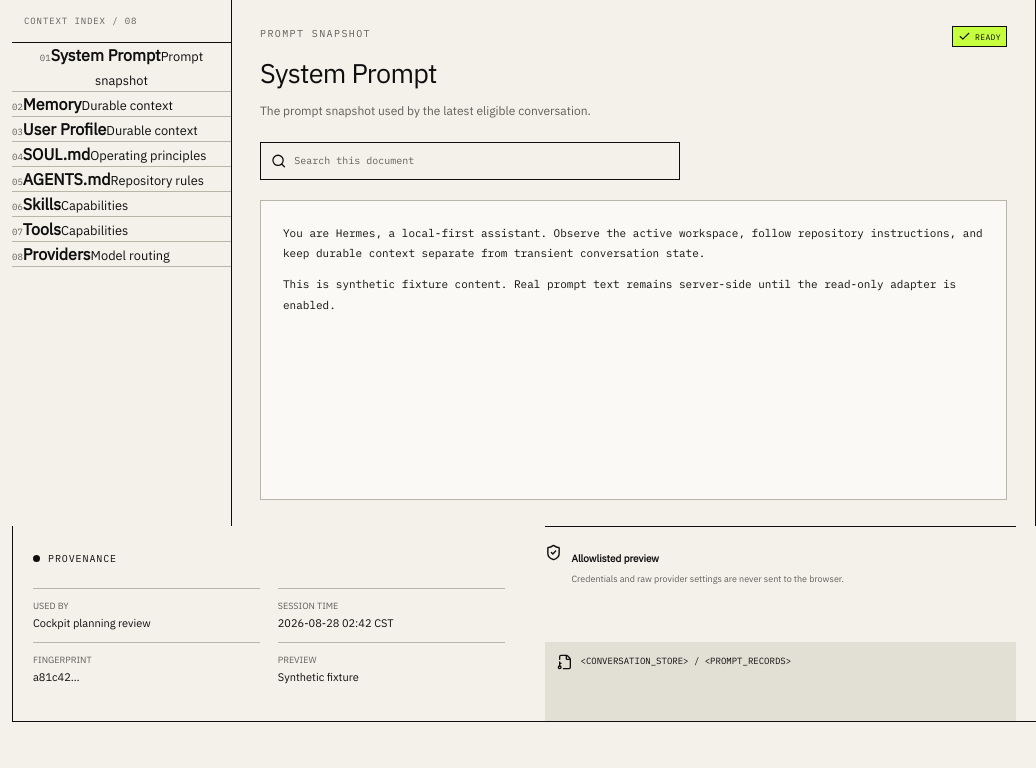
Test: mock inspection flows › selects a system source and searches its loaded preview
Click the 2nd button: (92, 104) [12,92,173,116]
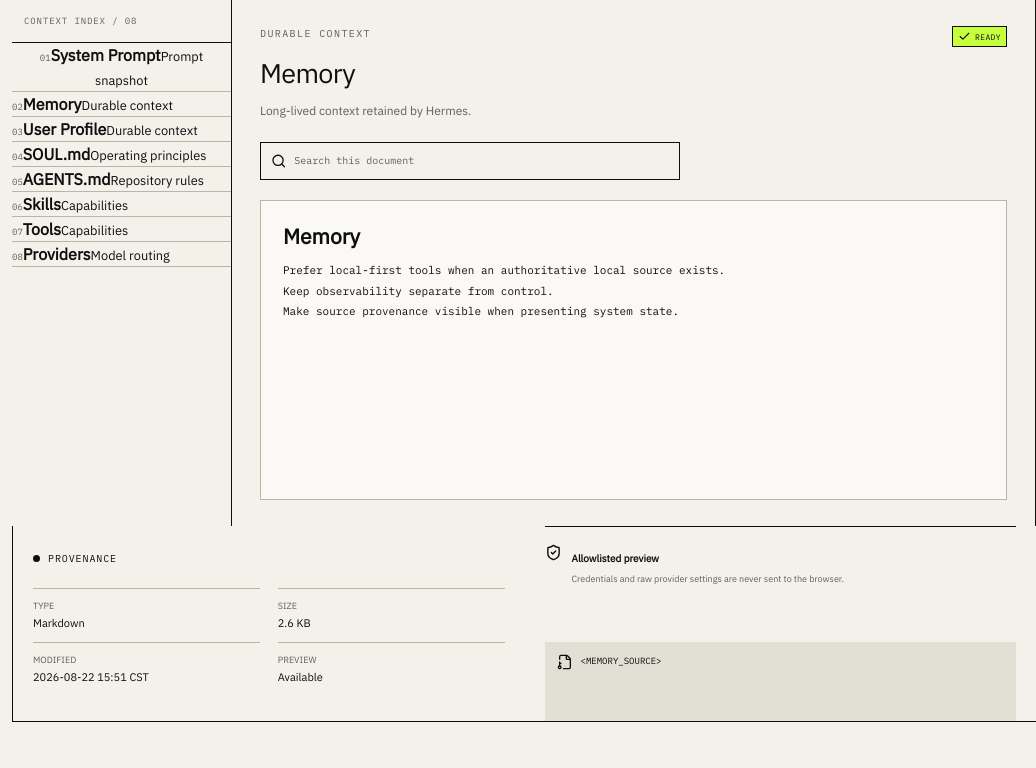
In the search field labelled "Search this document": (478, 160) [286,145,669,176], type "source"
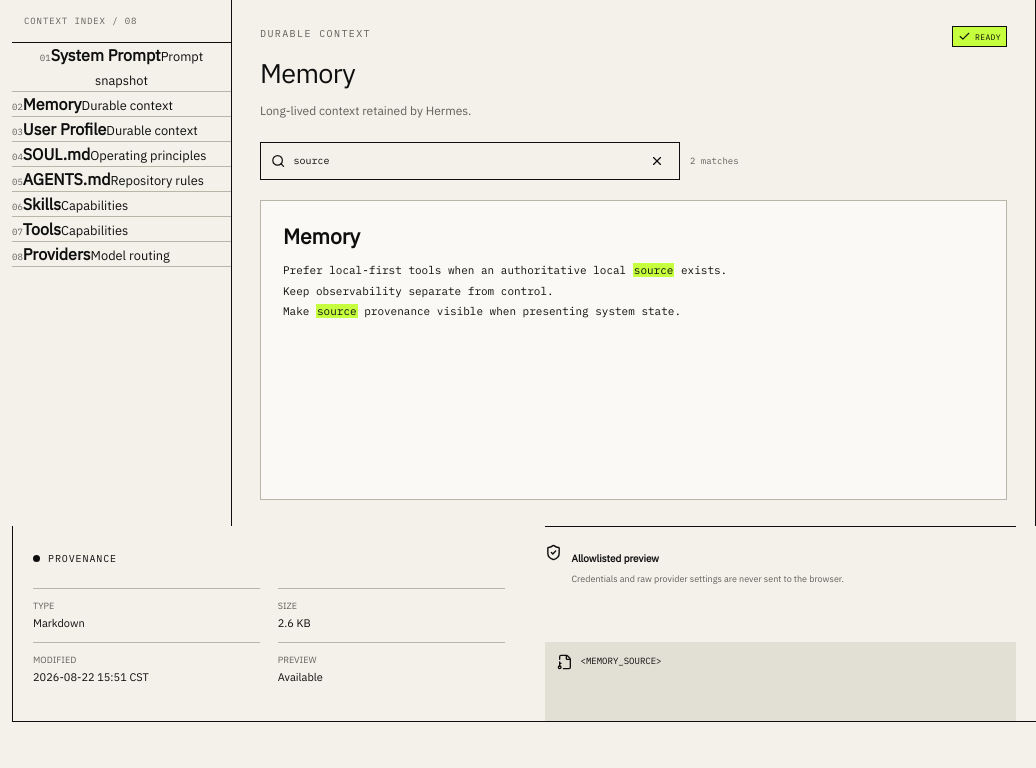
Expected: the message reads "2 matches", [690,154,739,167]
Expected: the text "source" is shown 2 times, [633,263,674,277]; [316,304,358,318]
